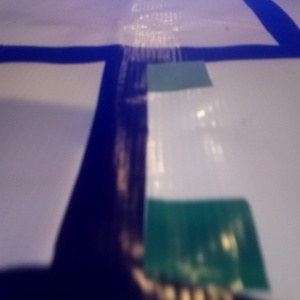bottom_right: (151, 192, 300, 299), (1, 45, 33, 90), (147, 1, 218, 16)
top_left: (59, 132, 204, 249), (98, 27, 182, 63)
